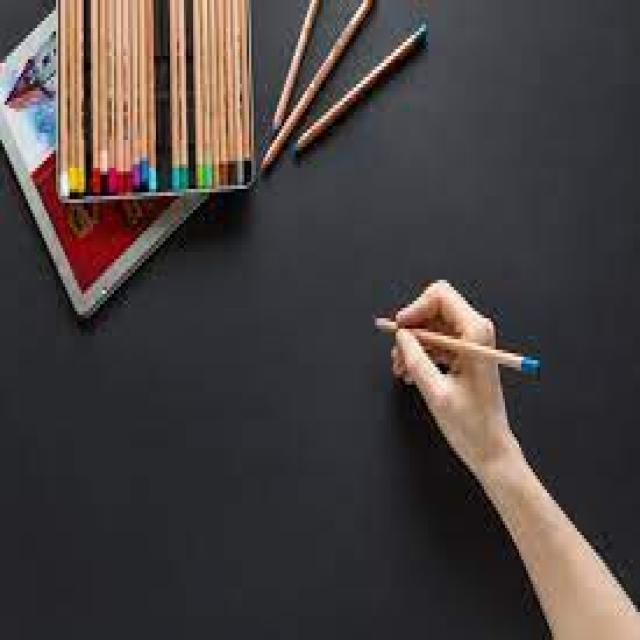pencil: (288, 19, 431, 154), (372, 317, 544, 389), (272, 1, 322, 139), (178, 2, 191, 193), (233, 0, 246, 187), (120, 0, 132, 195), (90, 0, 102, 194), (194, 1, 206, 192), (240, 0, 252, 186), (212, 0, 223, 189), (200, 0, 211, 185), (60, 0, 70, 201), (218, 0, 228, 195), (227, 0, 237, 192), (170, 1, 180, 190), (132, 1, 142, 187), (149, 1, 158, 194), (101, 0, 110, 177), (110, 0, 118, 192), (142, 0, 150, 186), (78, 2, 84, 192), (70, 0, 75, 196)
